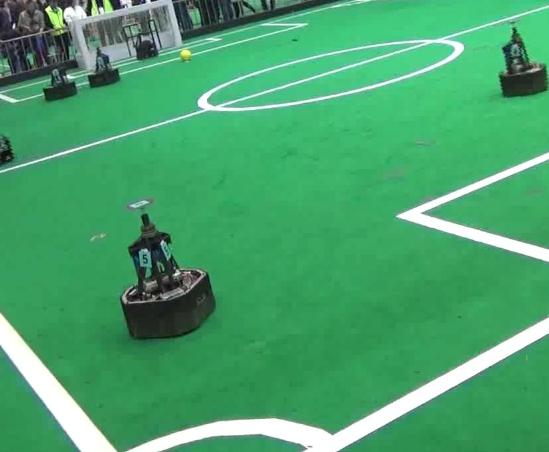robot: (104, 199, 224, 341), (492, 13, 549, 100)
